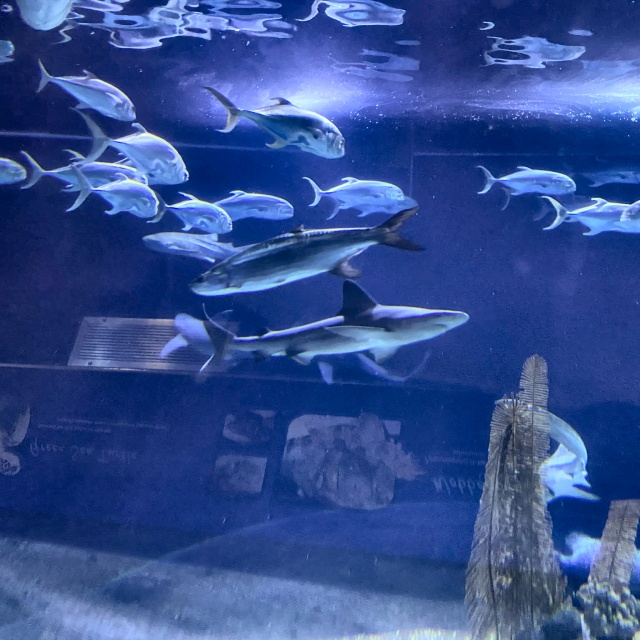fish: (192, 208, 423, 296), (204, 85, 345, 158), (72, 105, 190, 184), (35, 59, 137, 122), (539, 532, 639, 594), (22, 149, 147, 189), (69, 163, 159, 218), (541, 198, 639, 235), (151, 191, 234, 234), (477, 166, 576, 197), (329, 189, 419, 221), (209, 191, 294, 222), (307, 178, 404, 204), (532, 195, 612, 223), (570, 161, 639, 188), (0, 158, 27, 185)
shark: (200, 279, 469, 379), (494, 398, 598, 513), (143, 230, 278, 262)
